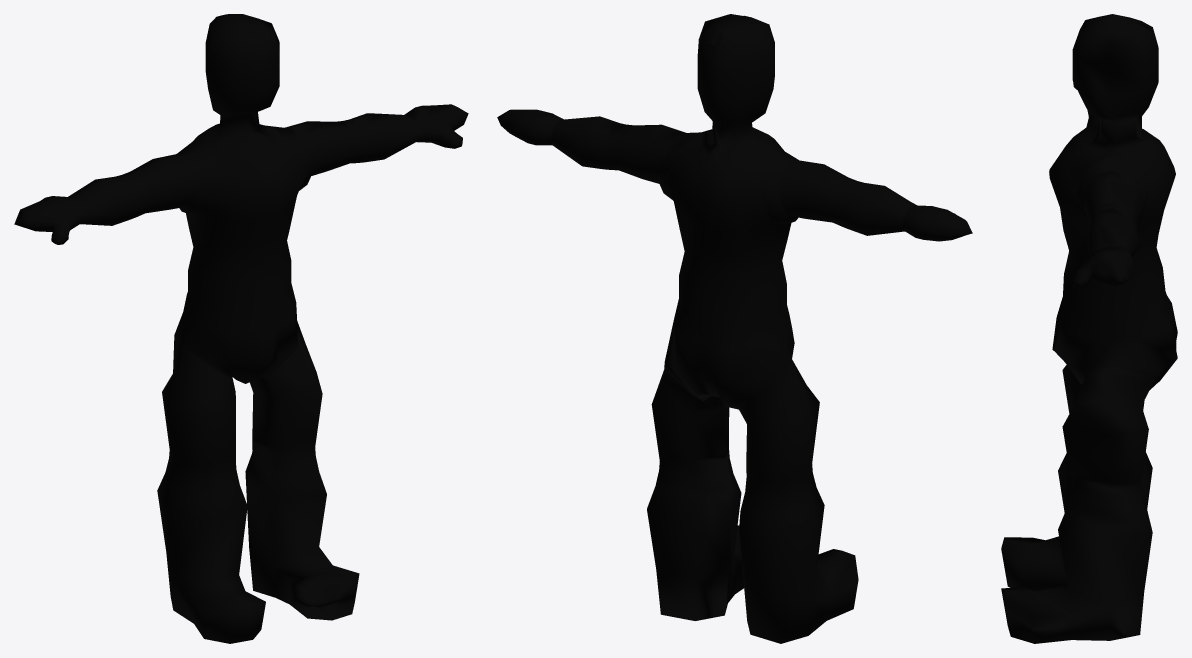
Rendered from ykp_basebody_fixed_unwrapped.glb.
3 renders of one model, left to right at view 1: azimuth 30°, elevation 25°; view 2: azimuth 150°, elevation 25°; view 3: azimuth 270°, elevation 25°, orthographic. The views are drawn at different scales.
Parts seen in each view (by area): view 1: basebody_character; view 2: basebody_character; view 3: basebody_character.
Part boxes in pixels (bbox=[...]): basebody_character: bbox=[14, 14, 468, 643]; basebody_character: bbox=[497, 14, 972, 643]; basebody_character: bbox=[1001, 14, 1177, 643].
Bounding box in the file's own units: 3.03 × 3.67 × 0.997.
Materials: 1 (1 with a texture image).
